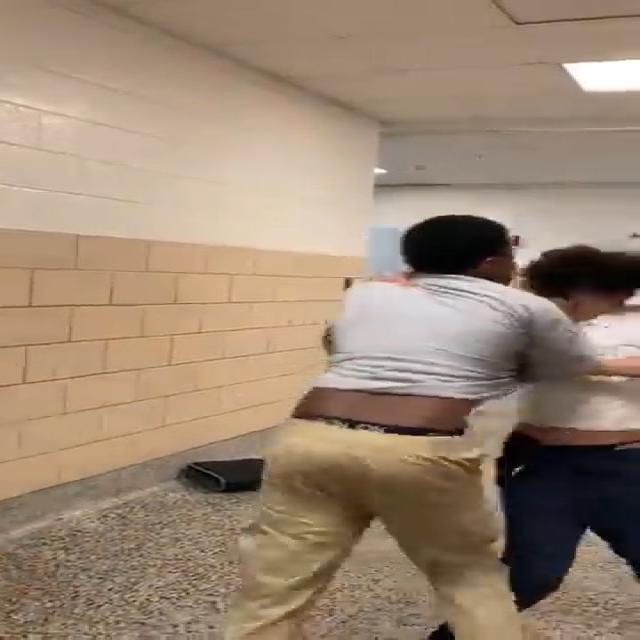fight: (230, 213, 638, 640)
